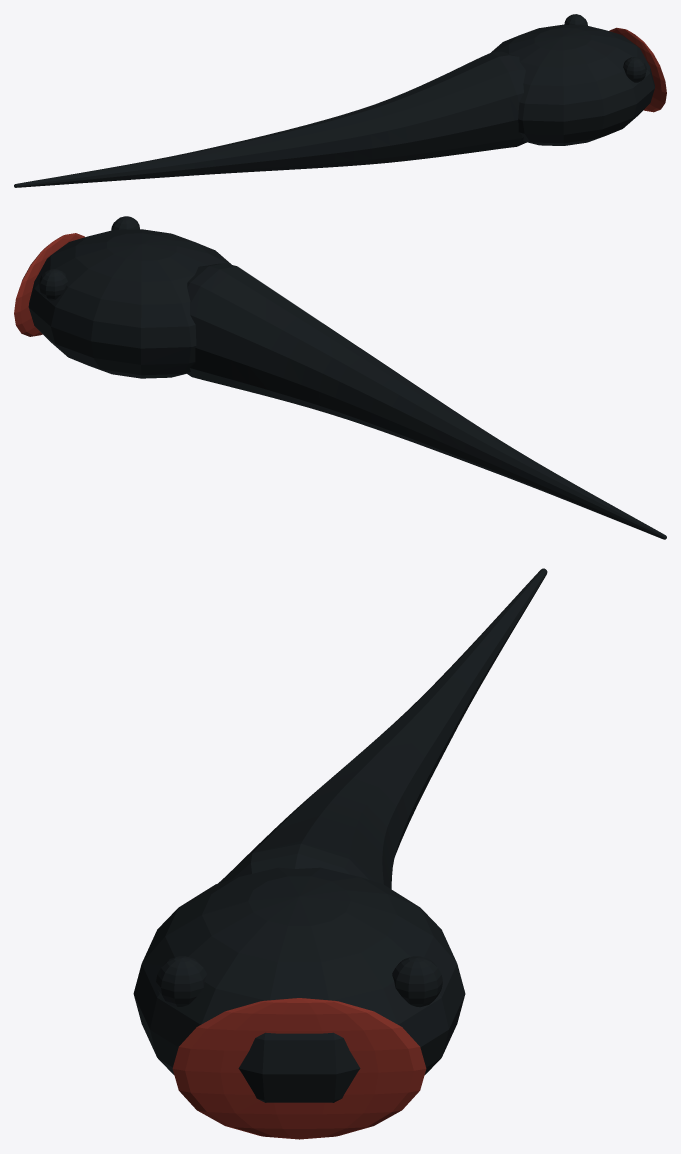
Rendered from gulper-eel.dae.
3 views of the same model, one above another, from view 1: azimuth 30°, elevation 25°; view 2: azimuth 150°, elevation 25°; view 3: azimuth 270°, elevation 25° (orthographic). The views are drawn at different scales.
Visible parts, largest first — view 1: part1-node, part0-node; view 2: part1-node, part0-node; view 3: part1-node, part0-node.
Part boxes in pixels (box(x1,y1,x2,y2)): part1-node: box(14, 14, 654, 187); part0-node: box(609, 27, 666, 112); part1-node: box(28, 216, 666, 539); part0-node: box(14, 233, 84, 336); part1-node: box(133, 568, 547, 1102); part0-node: box(172, 998, 426, 1139).
Size of the model in its own units: 0.9 by 0.2829 by 0.1468.
